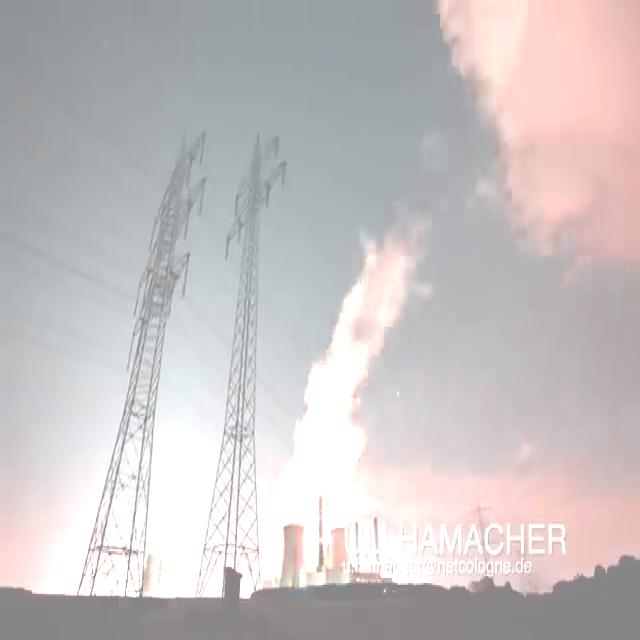smoke: (437, 0, 640, 261), (288, 220, 423, 560)
